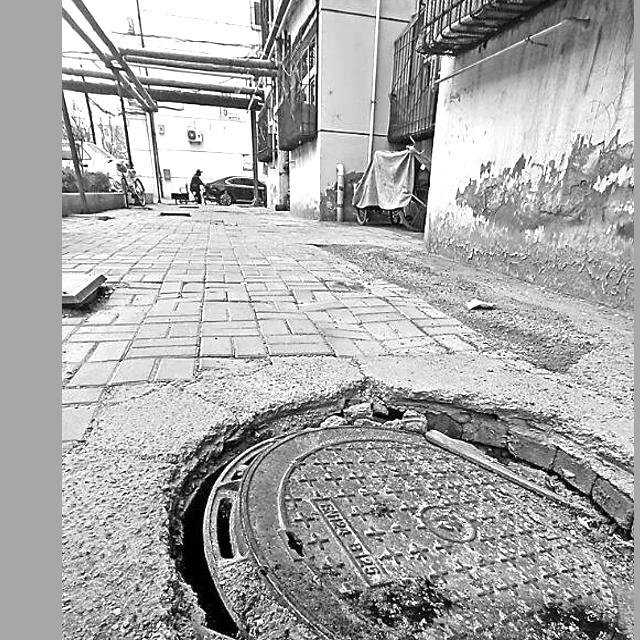circle: (137, 356, 632, 640)
